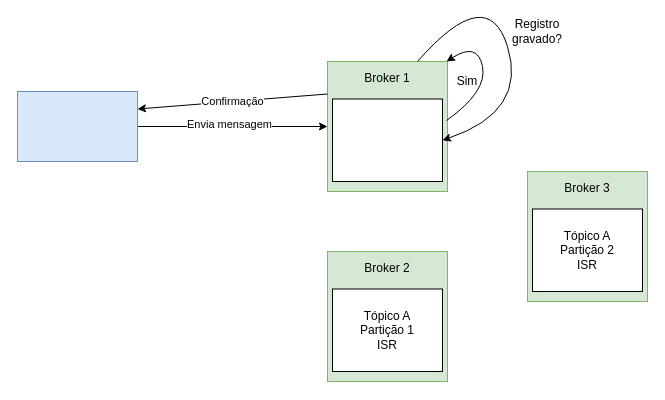
Some shapes in this 665 by 400 pixel diagram are drawn without their labels. Each missing label, with the centre of its shape:
"Produtor" goes at point 77,126.
"Tópico A Partição 0 Líder" goes at point 387,140.
